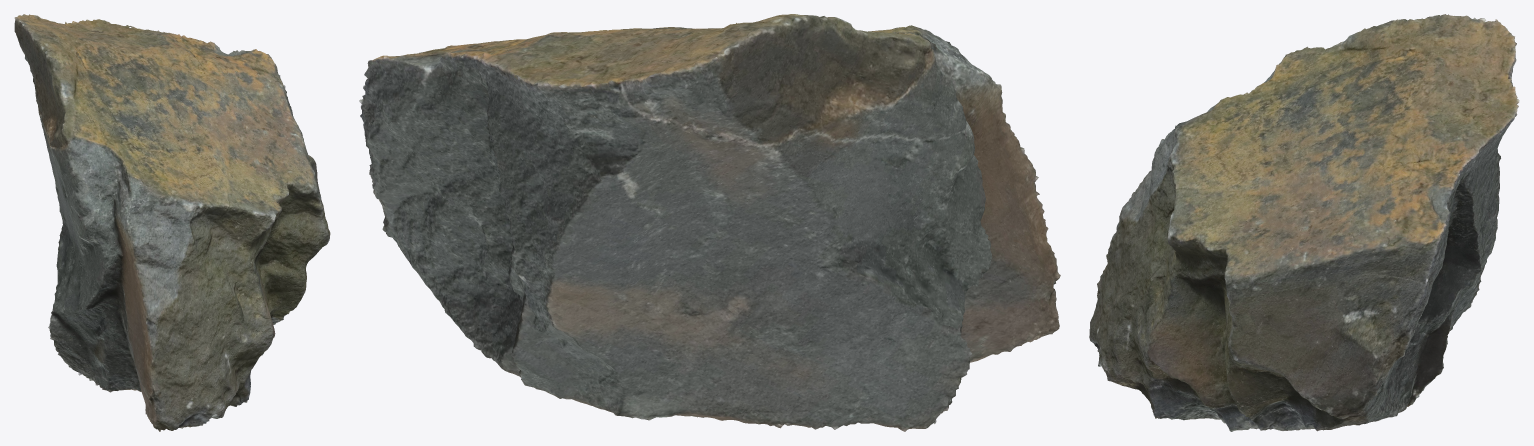
File: basalt.glb
3 views of the same model, side by side, from view 1: azimuth 30°, elevation 25°; view 2: azimuth 150°, elevation 25°; view 3: azimuth 270°, elevation 25° (orthographic). The views are drawn at different scales.
Visible parts, largest first — view 1: Object_2; view 2: Object_2; view 3: Object_2.
Part boxes in pixels (left/top/right/bottom): Object_2: left=14, top=14, right=330, bottom=431; Object_2: left=359, top=14, right=1060, bottom=431; Object_2: left=1089, top=14, right=1519, bottom=431.
Size of the model in its own units: 0.0969 by 0.0908 by 0.1.
1 material, 1 textured.
